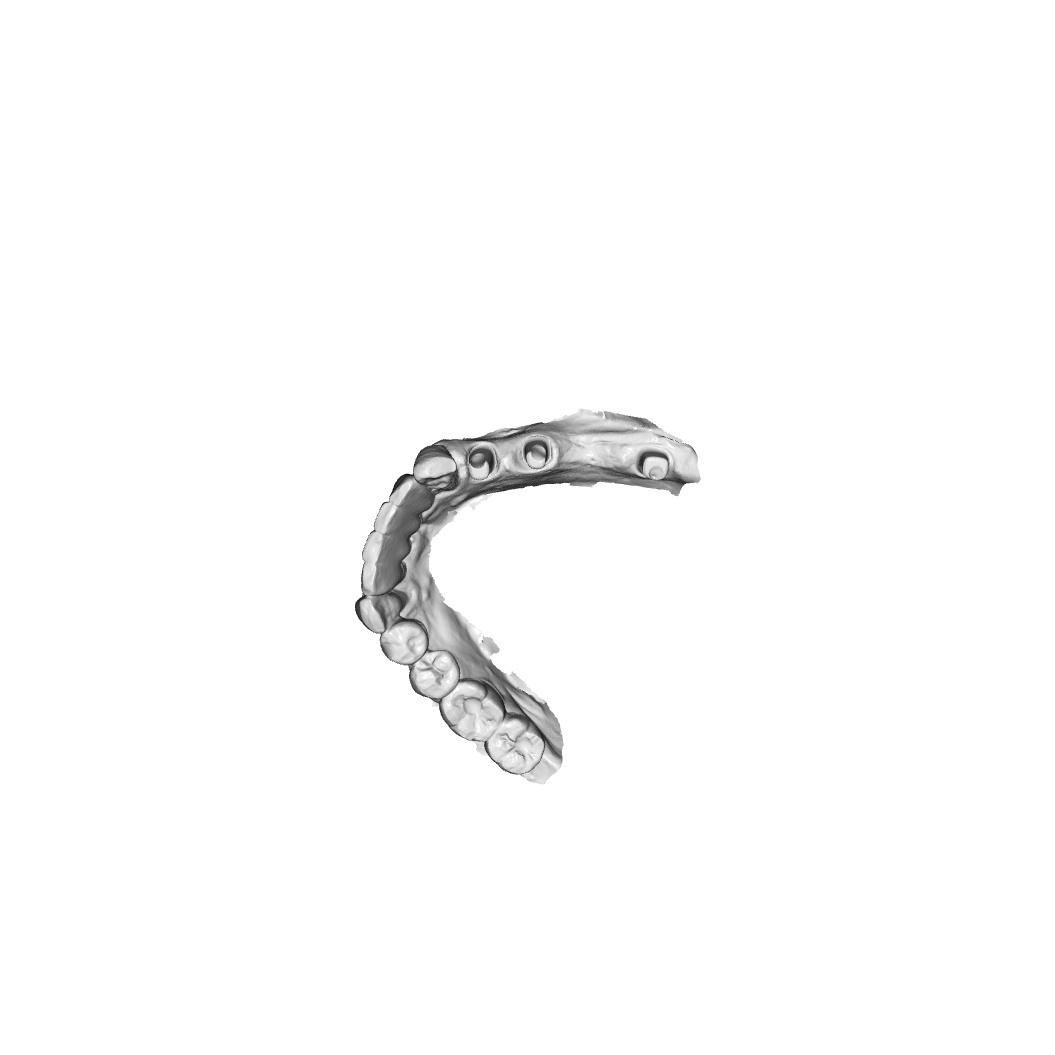abutment: (636, 449, 672, 484), (466, 445, 496, 482), (523, 438, 553, 471)
canine: (413, 444, 459, 492), (354, 593, 404, 635)
incisor: (360, 529, 412, 565), (387, 472, 434, 511), (359, 560, 406, 597), (372, 500, 420, 535)
molar: (438, 677, 506, 745), (484, 712, 547, 776)
premolar: (408, 648, 462, 703), (378, 617, 431, 666)
